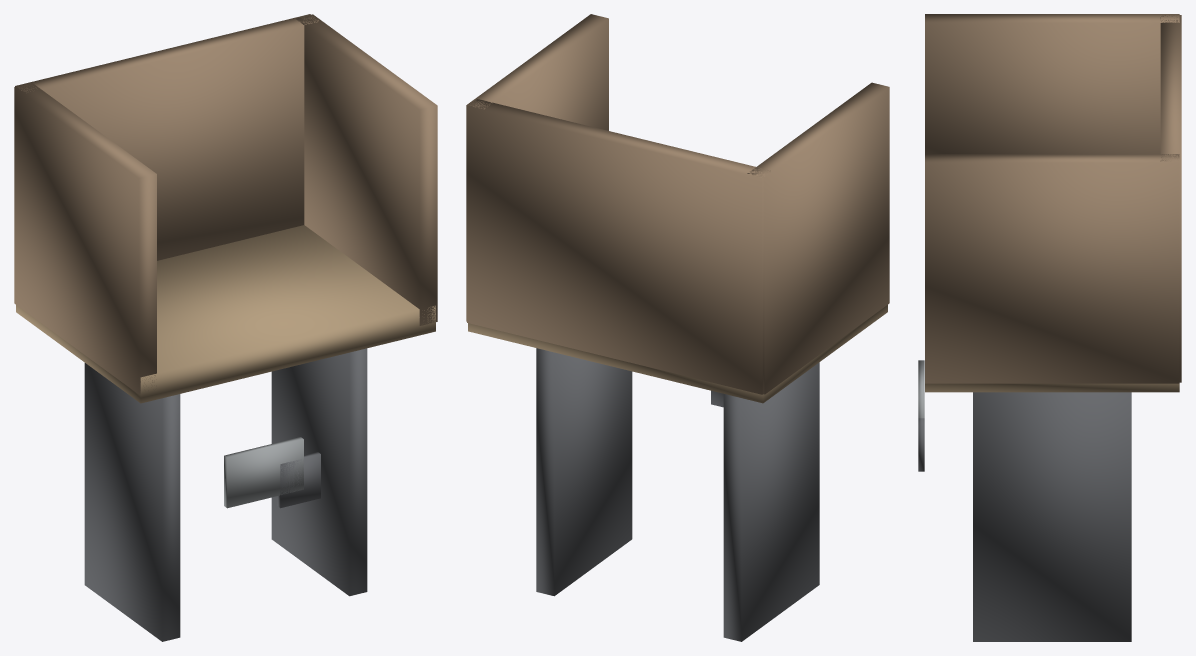
Rendered from study_carrel__weathered.glb.
The picture shows the model from 3 angles, left to right: view 1: azimuth 30°, elevation 25°; view 2: azimuth 150°, elevation 25°; view 3: azimuth 270°, elevation 25°; orthographic projection. The views are drawn at different scales.
Parts seen in each view (by area): view 1: world; view 2: world; view 3: world.
Part boxes in pixels (x1=…): world: x1=14, y1=14, x2=437, y2=641; world: x1=466, y1=14, x2=889, y2=641; world: x1=918, y1=14, x2=1181, y2=641.
Size of the model in its own units: 0.83 by 1.31 by 0.621.
